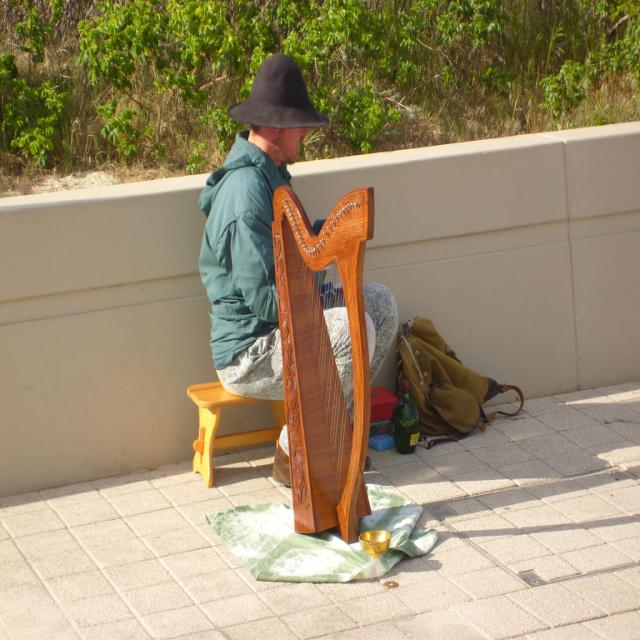harp: (265, 184, 388, 534)
